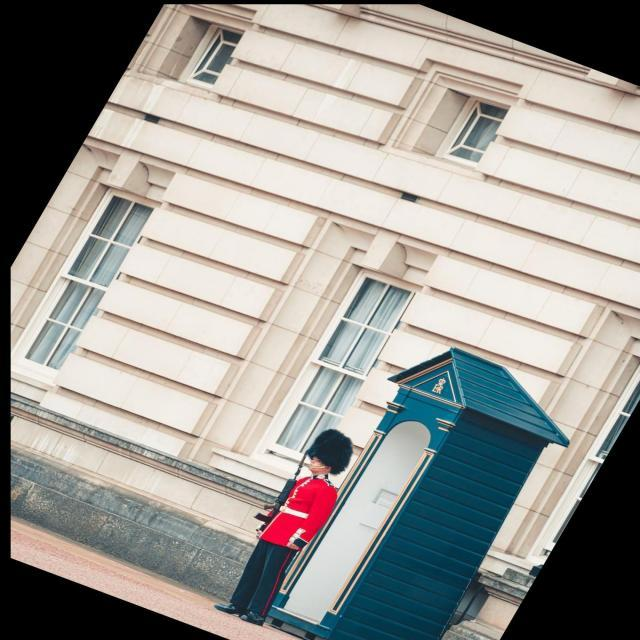weapon: (253, 449, 310, 534)
